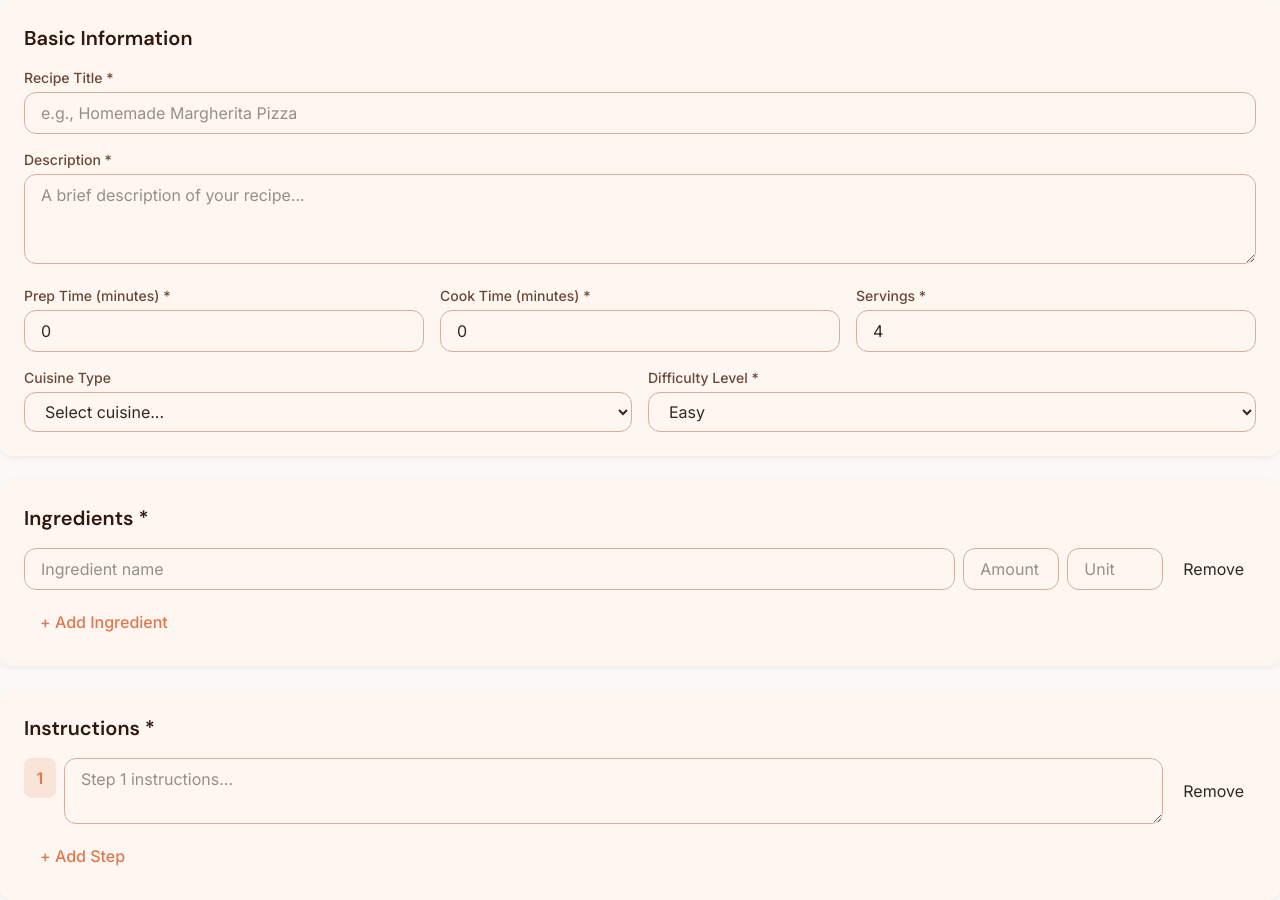
RecipeForm › Basic Fields › should update servings
Note: Triple-click to select all, then type to replace
Click the number field below "Servings *".
click(1056, 331)  # box [856,310,1256,352]
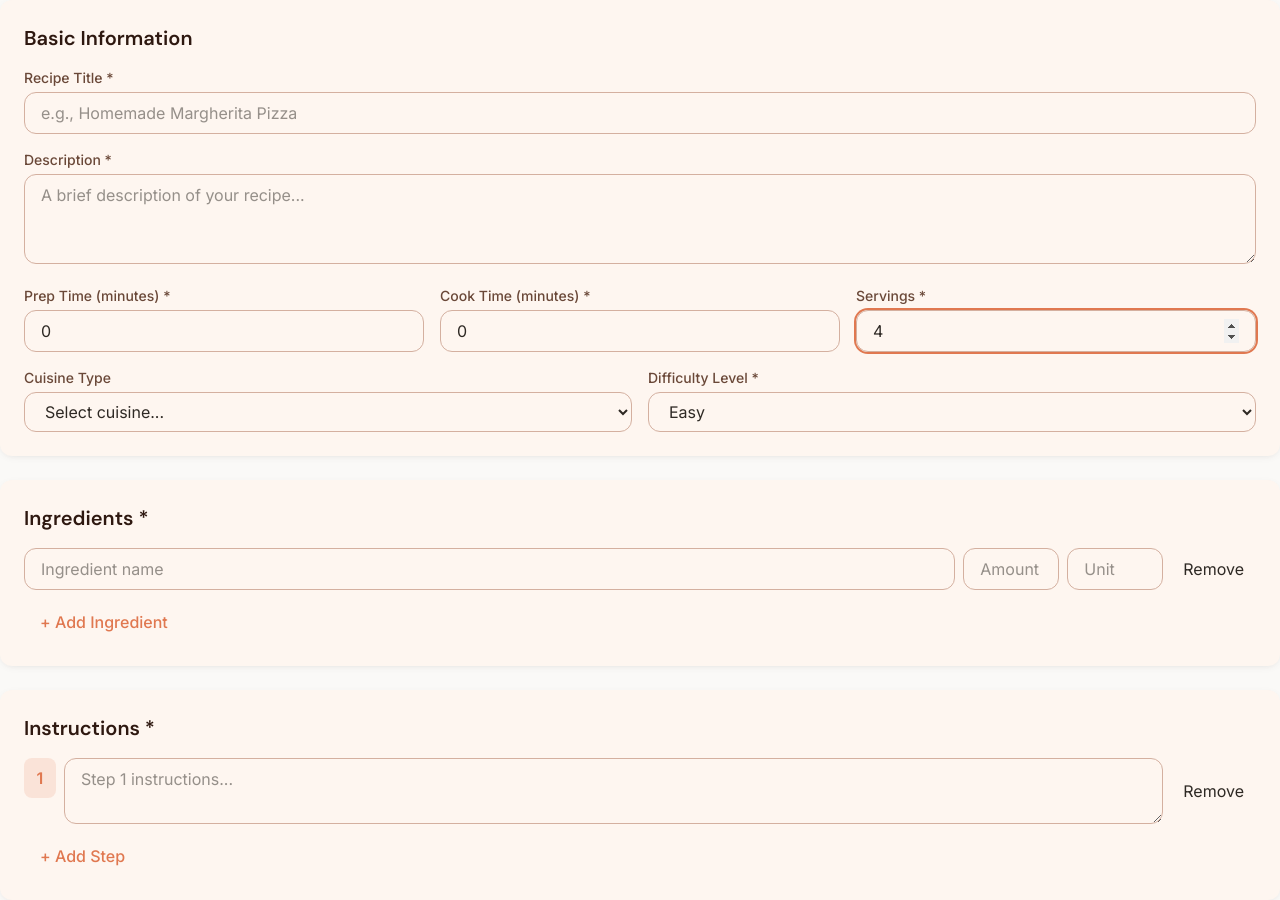
Type keys "6"
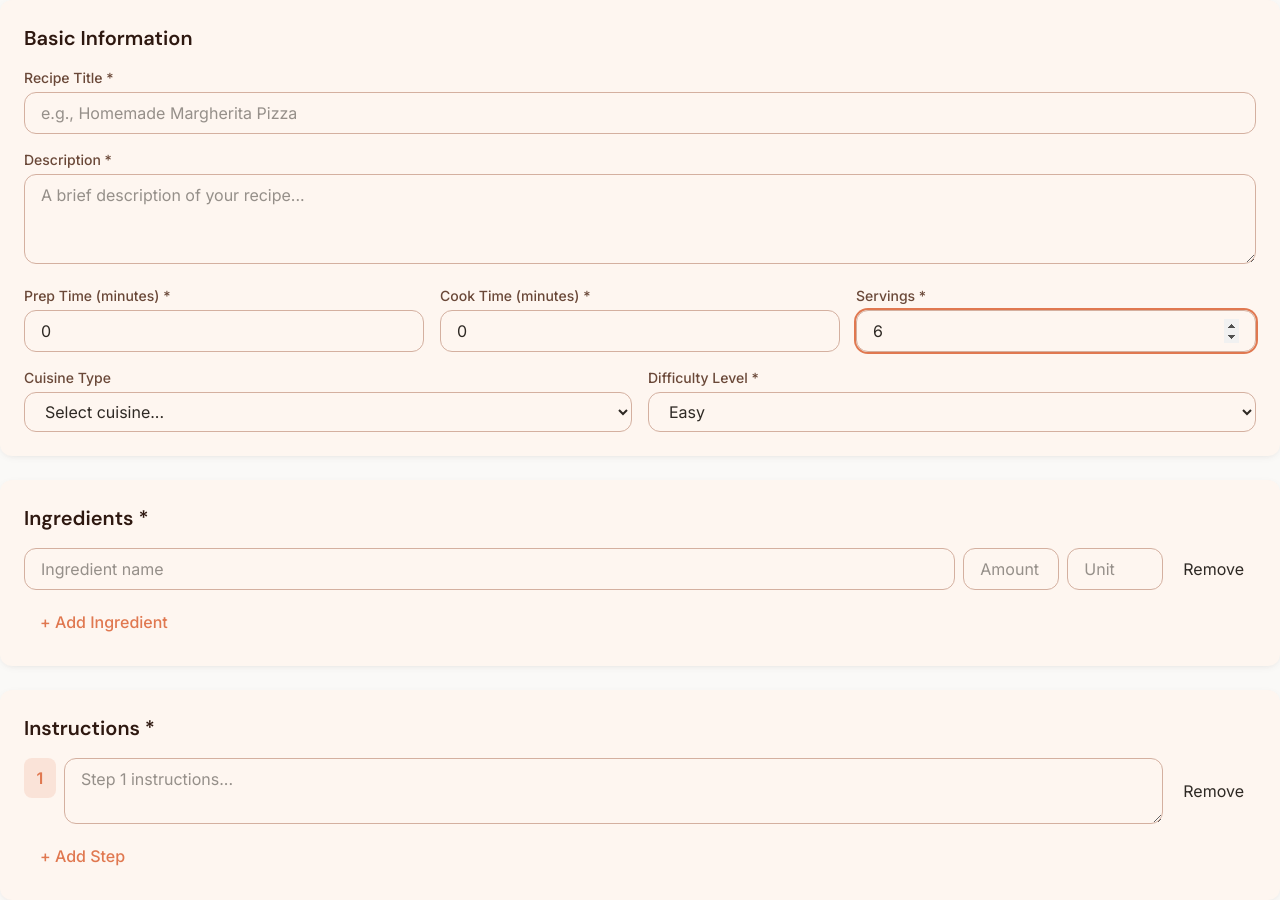
Expected: the number field below "Servings *" holds "6", [856,310,1256,352]
